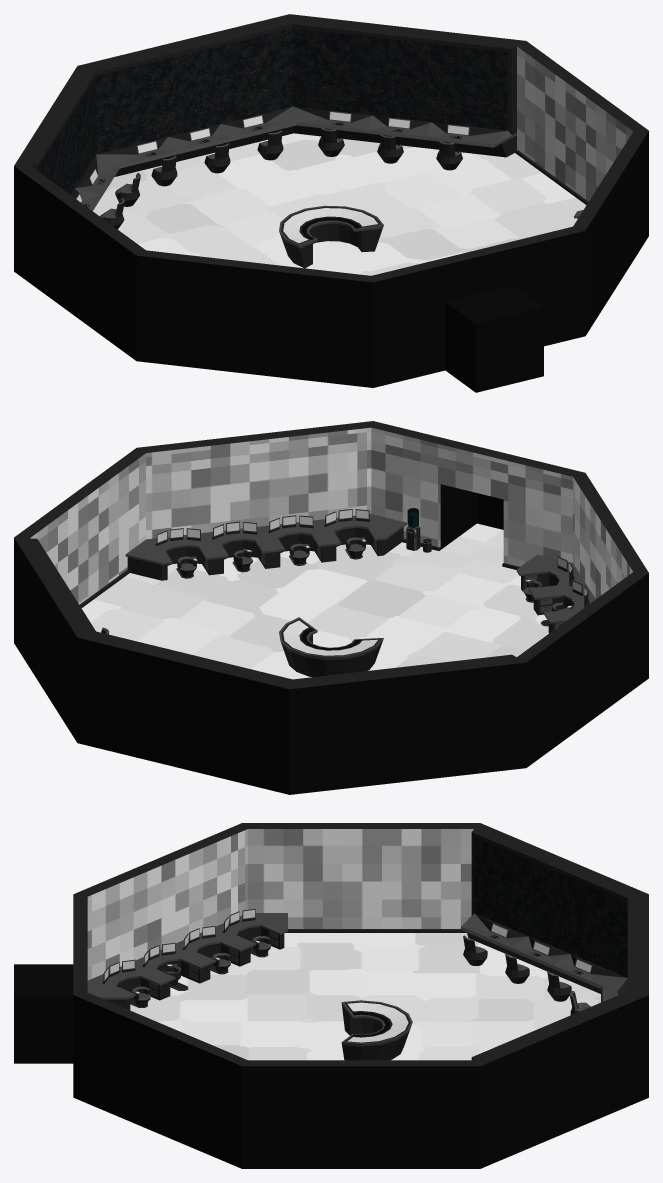
The model's file is Command_Room_1x1x1.fbx.
3 views of the same model, one above another, from view 1: azimuth 30°, elevation 25°; view 2: azimuth 150°, elevation 25°; view 3: azimuth 270°, elevation 25° (orthographic). The views are drawn at different scales.
Parts seen in each view (by area): view 1: Room_Round_1x1x1.001Command_Room_1x1x1; view 2: Room_Round_1x1x1.001Command_Room_1x1x1; view 3: Room_Round_1x1x1.001Command_Room_1x1x1.
Boxes of the visible parts, bbox=[...] form: Room_Round_1x1x1.001Command_Room_1x1x1: bbox=[14, 14, 648, 392]; Room_Round_1x1x1.001Command_Room_1x1x1: bbox=[14, 421, 648, 794]; Room_Round_1x1x1.001Command_Room_1x1x1: bbox=[14, 823, 648, 1168].
Size of the model in its own units: 40.63 by 44.83 by 8.
